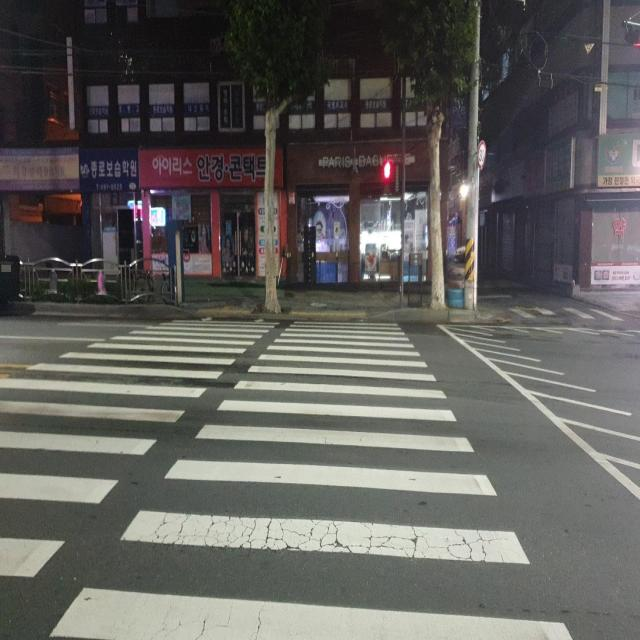빨간불: (383, 156, 392, 194)
횡단보도: (0, 315, 574, 639)
